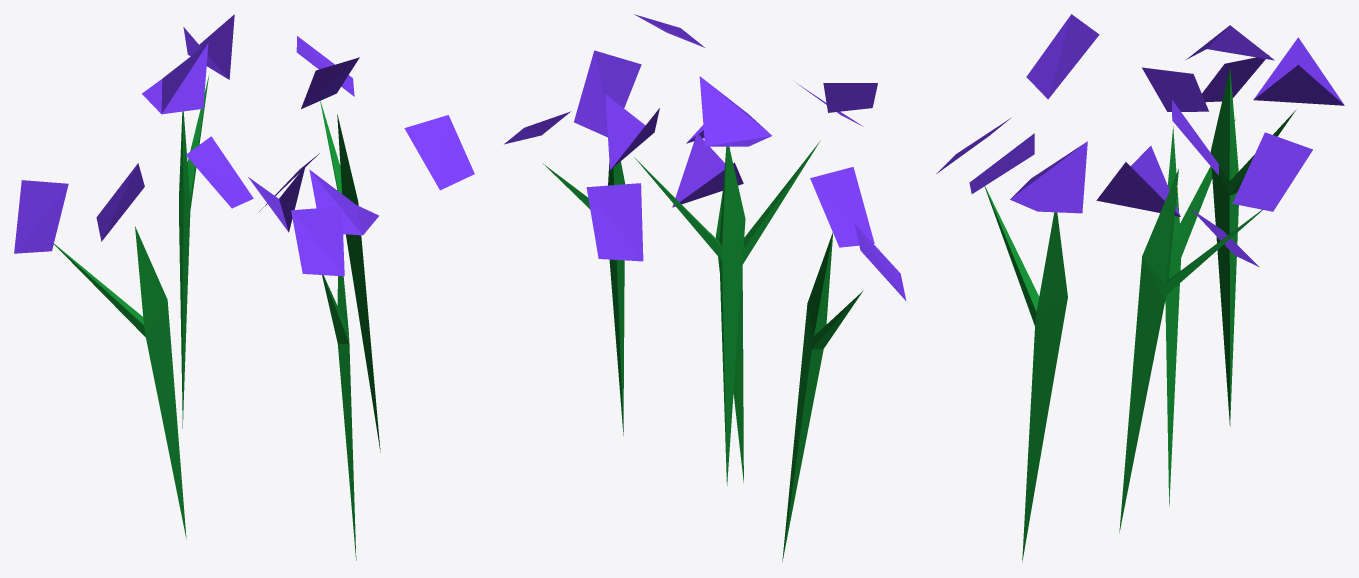
The model's file is PurpleAster_LOD3.fbx.
3 views of the same model, side by side, from view 1: azimuth 30°, elevation 25°; view 2: azimuth 150°, elevation 25°; view 3: azimuth 270°, elevation 25° (orthographic). The views are drawn at different scales.
Visible parts, largest first — view 1: PurpleAster_LOD3; view 2: PurpleAster_LOD3; view 3: PurpleAster_LOD3.
Boxes of the visible parts, <box> form: PurpleAster_LOD3: <box>14,14,474,560</box>; PurpleAster_LOD3: <box>504,14,906,561</box>; PurpleAster_LOD3: <box>936,14,1344,561</box>.
Size of the model in its own units: 24.17 by 33.24 by 26.77.
